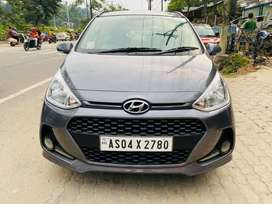AS04X2780: (100, 135, 172, 151)
